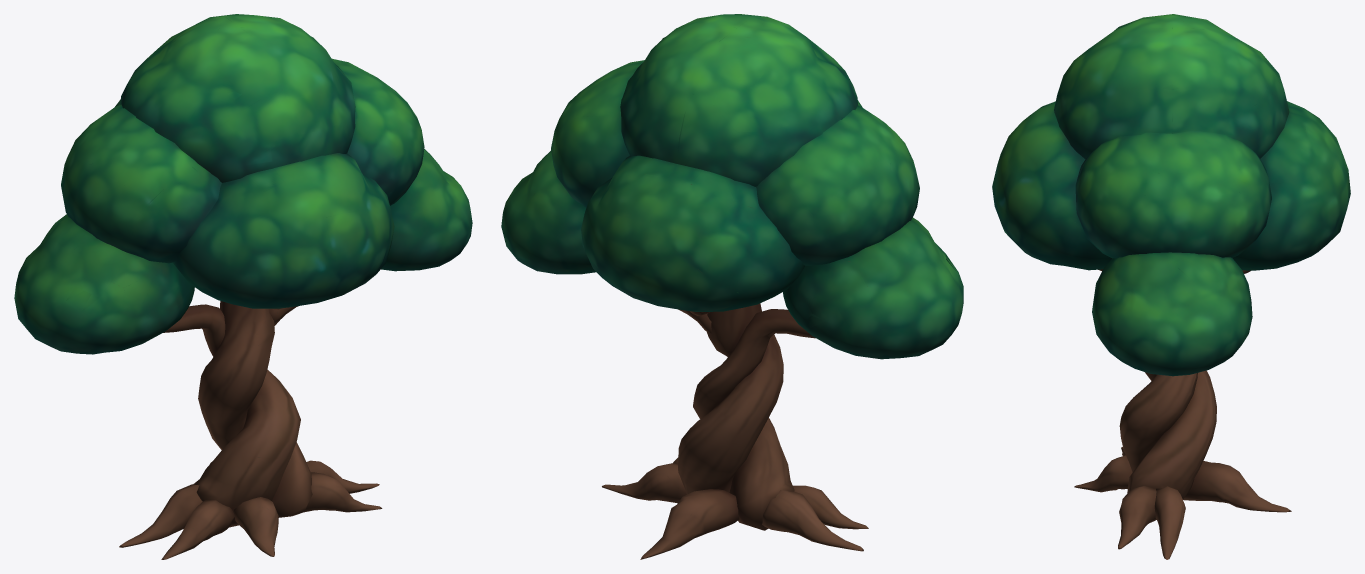
The model's file is tree_raw.glb.
3 renders of one model, left to right at view 1: azimuth 30°, elevation 25°; view 2: azimuth 150°, elevation 25°; view 3: azimuth 270°, elevation 25°, orthographic. The views are drawn at different scales.
Visible parts, largest first — view 1: geometry_0; view 2: geometry_0; view 3: geometry_0.
Boxes of the visible parts, <box> form: geometry_0: <box>14,14,472,559</box>; geometry_0: <box>501,14,963,559</box>; geometry_0: <box>992,14,1350,559</box>.
Size of the model in its own units: 0.9379 by 1 by 0.6941.
1 material, 1 textured.
